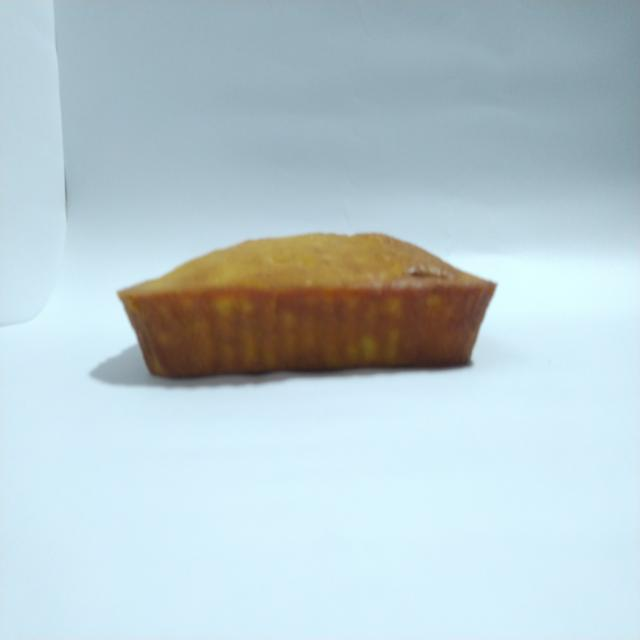Food: (102, 224, 516, 395)
